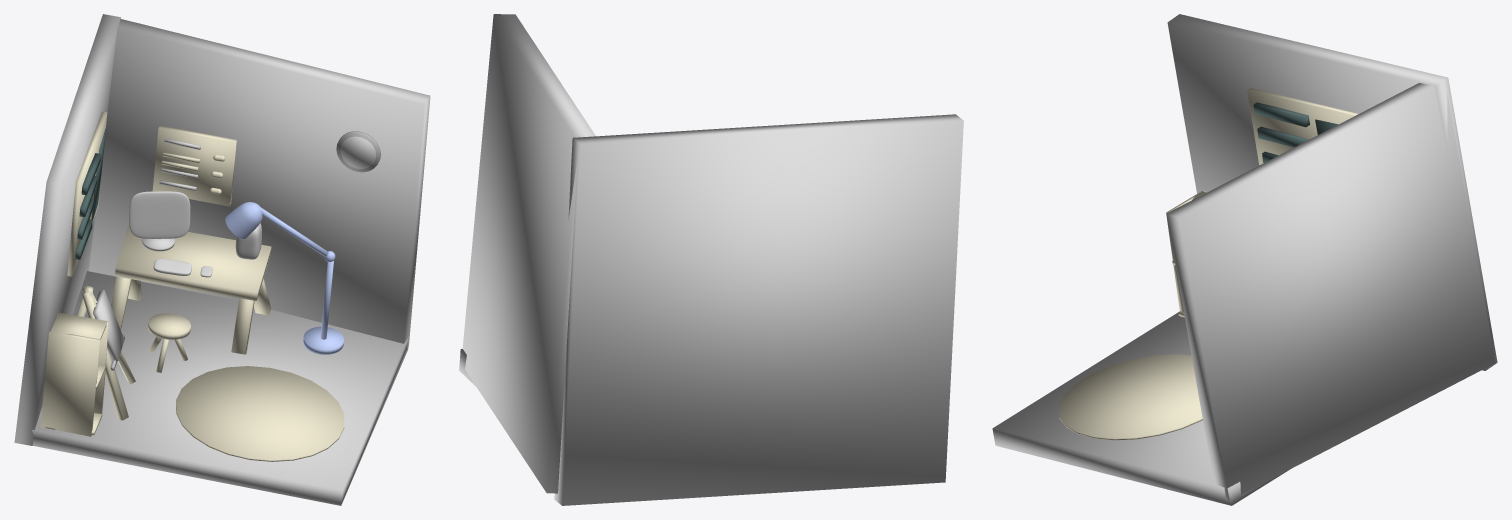
Rendered from theartistsstudio.glb.
3 renders of one model, left to right at view 1: azimuth 30°, elevation 25°; view 2: azimuth 150°, elevation 25°; view 3: azimuth 270°, elevation 25°, orthographic. The views are drawn at different scales.
Visible parts, largest first — view 1: theartistsstudio.001; view 2: theartistsstudio.001; view 3: theartistsstudio.001.
Part boxes in pixels (left/top/right/bottom): theartistsstudio.001: left=14, top=14, right=430, bottom=505; theartistsstudio.001: left=459, top=14, right=963, bottom=505; theartistsstudio.001: left=992, top=14, right=1497, bottom=505.
Size of the model in its own units: 2.89 by 2.37 by 3.04.
